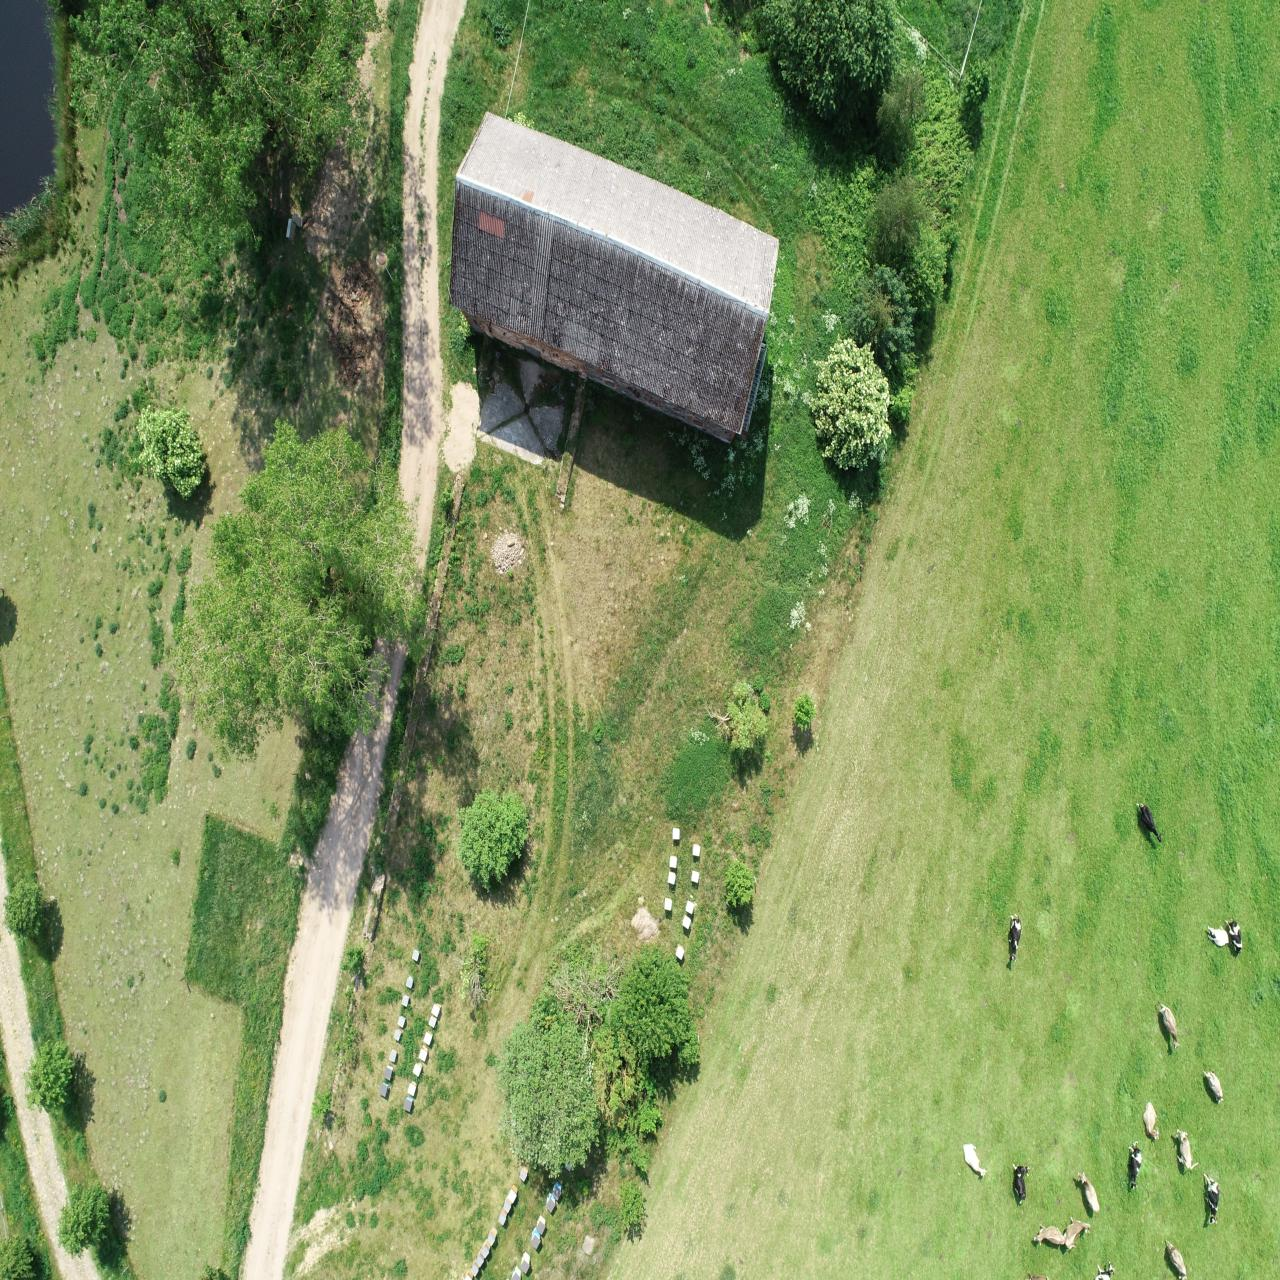cow: (1154, 999, 1182, 1053), (960, 1140, 990, 1187), (1173, 1125, 1201, 1173), (1135, 800, 1164, 845), (1076, 1168, 1102, 1216), (1202, 1170, 1223, 1228), (1062, 1215, 1092, 1254), (1199, 1066, 1227, 1106), (1124, 1139, 1144, 1194), (1164, 1237, 1188, 1280), (1031, 1221, 1066, 1250), (1010, 1162, 1032, 1207), (1223, 913, 1244, 960), (1140, 1100, 1160, 1144), (1007, 912, 1023, 966), (1205, 923, 1230, 952), (1093, 1260, 1115, 1280), (1026, 1268, 1050, 1280)
